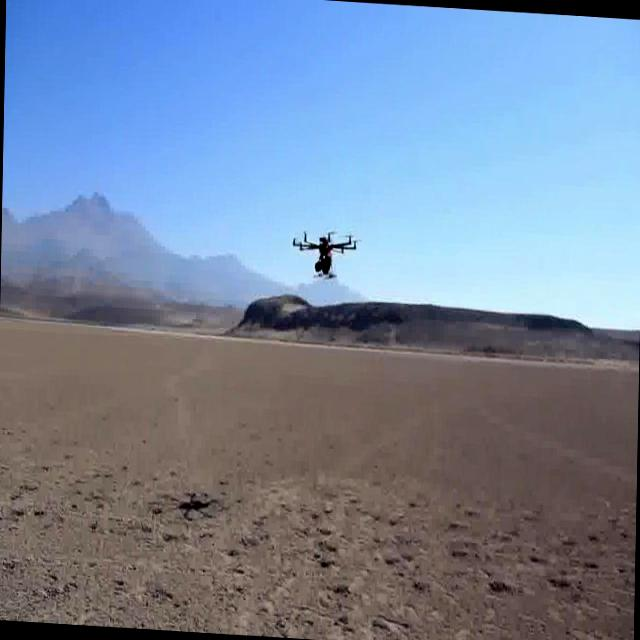drone: (290, 222, 360, 287)
